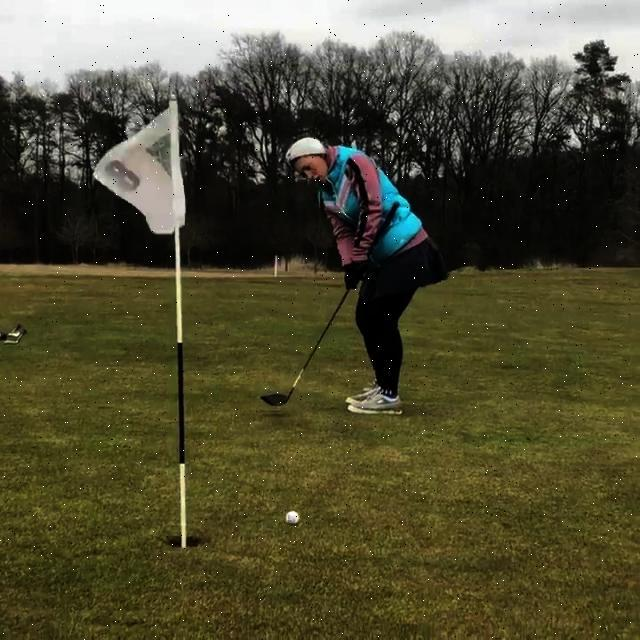golf ball: (286, 510, 301, 526)
golf club-handle: (255, 200, 402, 412)
golf club-head: (260, 393, 286, 406)
